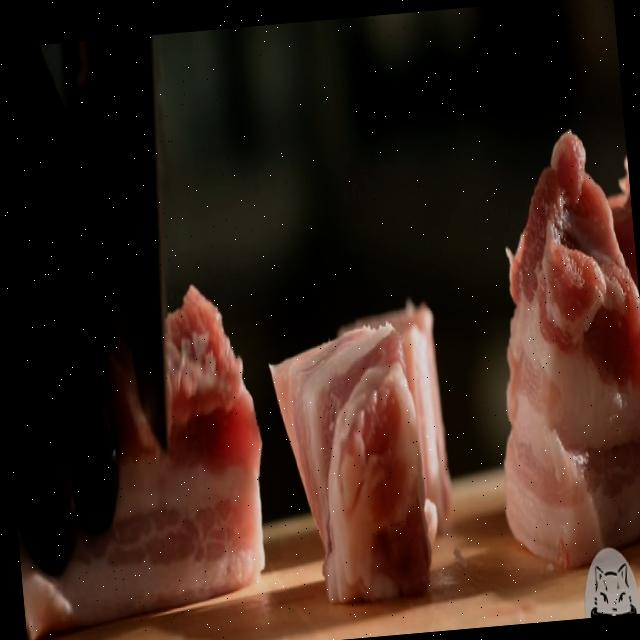meat: (473, 125, 640, 578), (270, 278, 471, 640), (92, 252, 276, 599)
